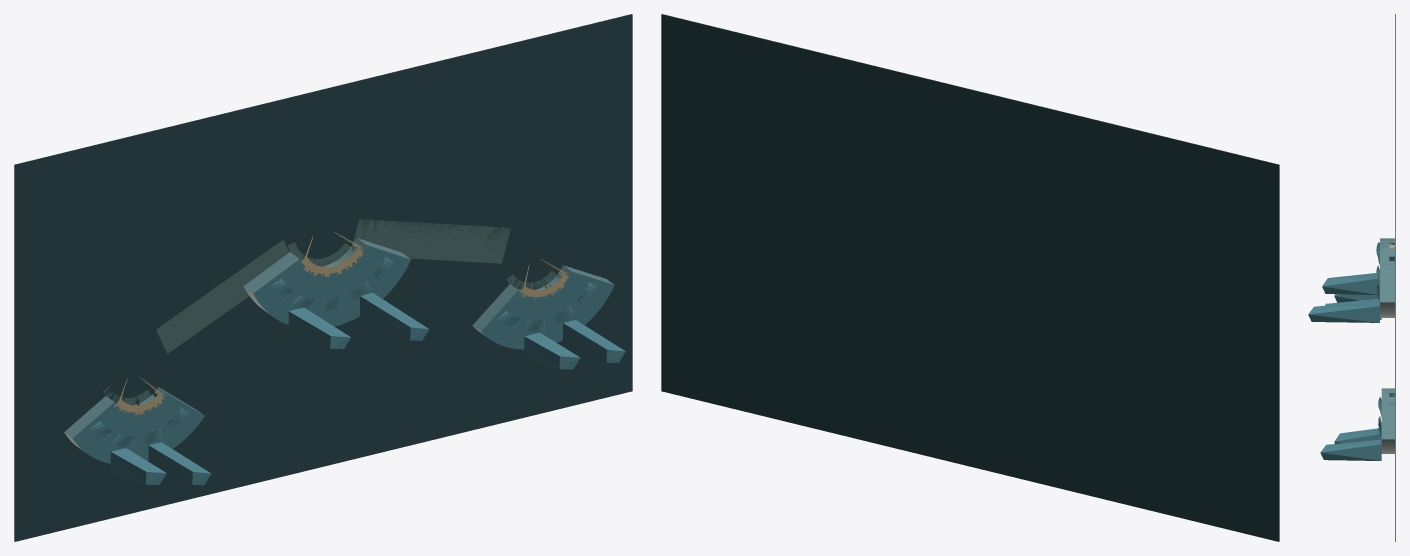
File: b7_civic_oculi_source.obj
3 views of the same model, side by side, from view 1: azimuth 30°, elevation 25°; view 2: azimuth 150°, elevation 25°; view 3: azimuth 270°, elevation 25° (orthographic). The views are drawn at different scales.
Size of the model in its own units: 480 by 280 by 75.8.
